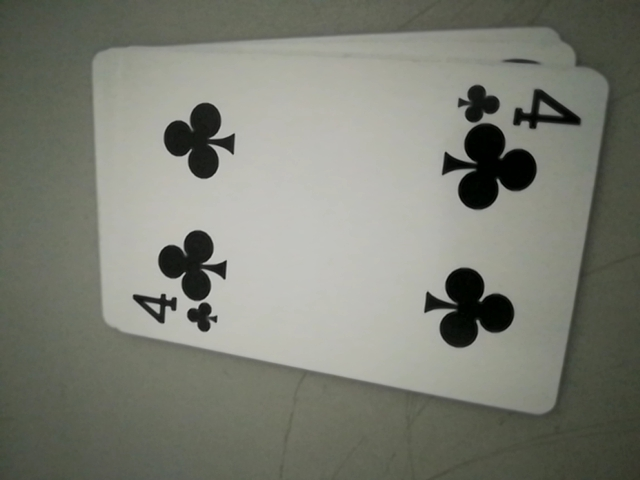mh 4: (456, 77, 581, 131), (122, 288, 226, 339)
